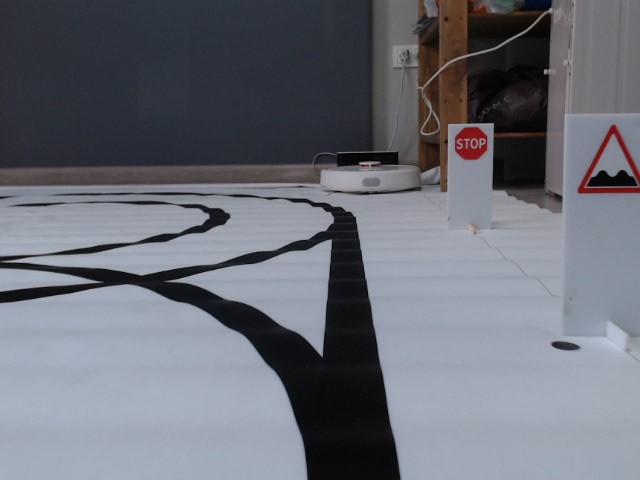Nerov: (575, 123, 640, 199)
Stop: (455, 127, 487, 159)
